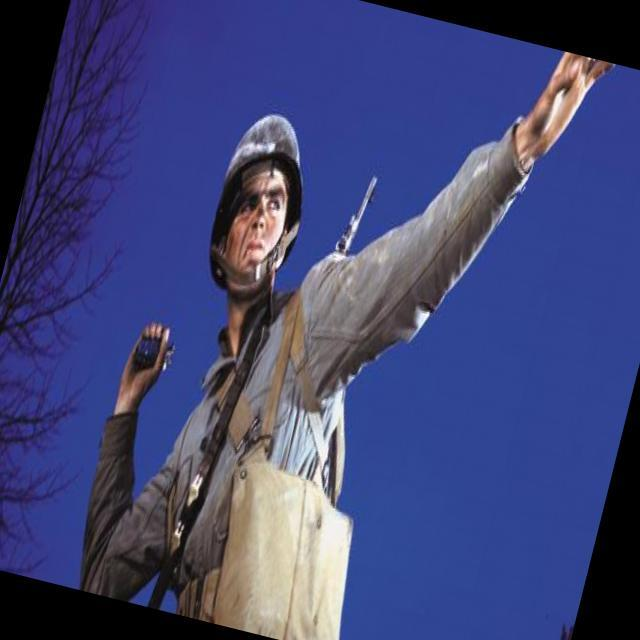grenade: (128, 323, 184, 385)
